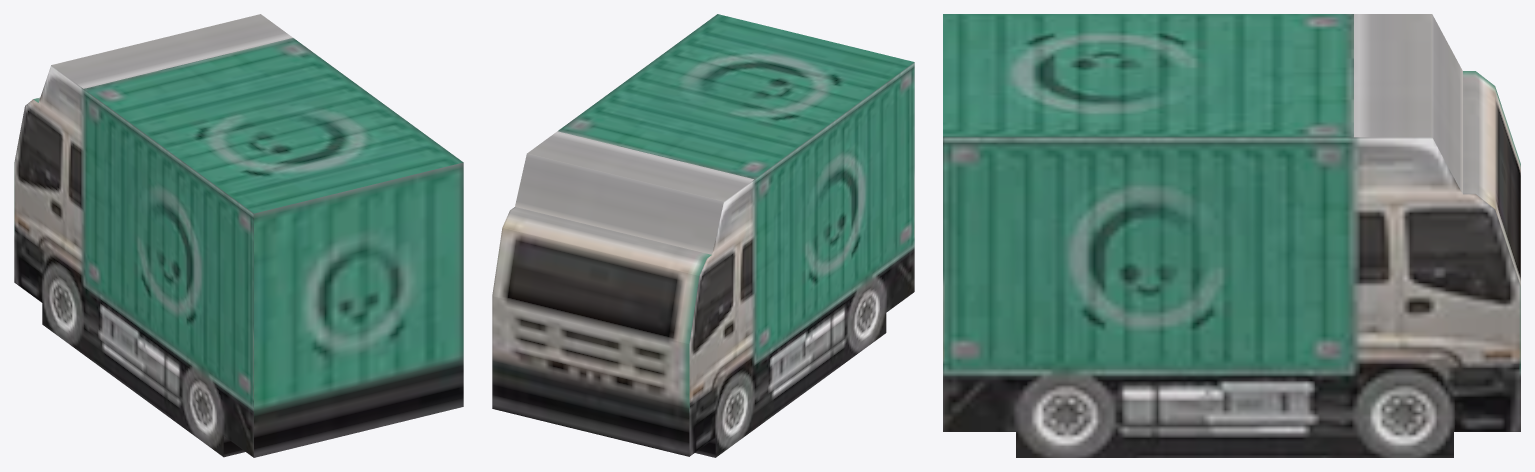
The model's file is cart.glb.
3 renders of one model, left to right at view 1: azimuth 30°, elevation 25°; view 2: azimuth 150°, elevation 25°; view 3: azimuth 270°, elevation 25°, orthographic. The views are drawn at different scales.
Parts seen in each view (by area): view 1: truck-green; view 2: truck-green; view 3: truck-green.
Part boxes in pixels (x1,y1,x2,y2): truck-green: (14, 14, 463, 457); truck-green: (492, 14, 914, 457); truck-green: (943, 14, 1520, 457).
Size of the model in its own units: 0.83 by 1.01 by 1.64.
Materials: 1 (1 with a texture image).
